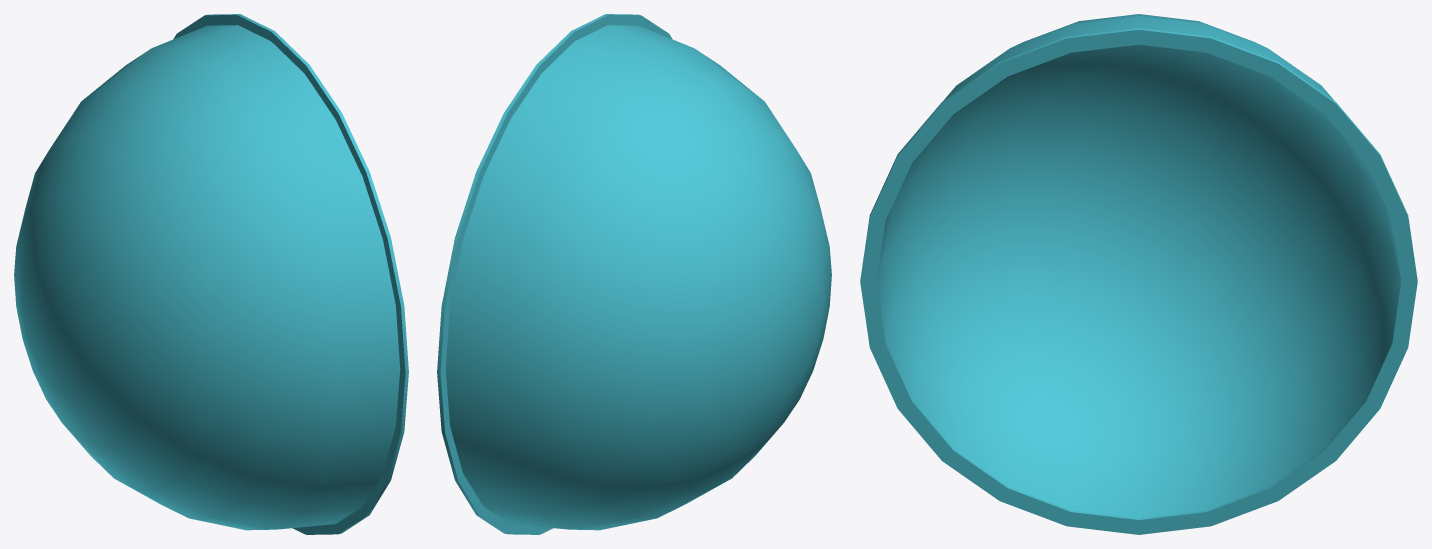
3 views of the same model, side by side, from view 1: azimuth 30°, elevation 25°; view 2: azimuth 150°, elevation 25°; view 3: azimuth 270°, elevation 25° (orthographic). The views are drawn at different scales.
Visible parts, largest first — view 1: Renderer Node; view 2: Renderer Node; view 3: Renderer Node.
Part boxes in pixels (x1,y1,x2,y2): Renderer Node: [14, 14, 408, 534]; Renderer Node: [437, 14, 831, 534]; Renderer Node: [860, 14, 1417, 534].
Bounding box in the file's own units: 0.3259 × 0.6685 × 0.6685.
1 material, 1 textured.
